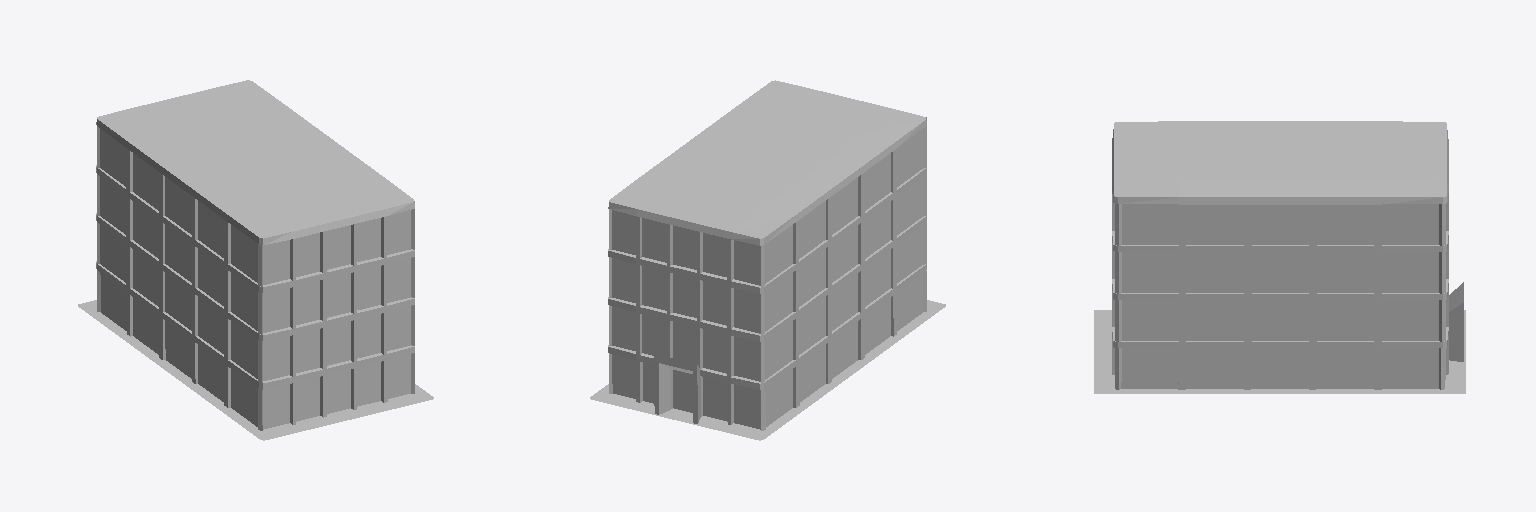
The model's file is building2.obj.
3 views of the same model, side by side, from view 1: azimuth 30°, elevation 25°; view 2: azimuth 150°, elevation 25°; view 3: azimuth 270°, elevation 25° (orthographic).
Visible parts, largest first — view 1: Plane; view 2: Plane; view 3: Plane.
Part boxes in pixels (x1,y1,x2,y2): Plane: (78,80,433,440); Plane: (590,80,945,440); Plane: (1094,121,1465,393).
Size of the model in its own units: 8.71 by 9.26 by 16.15.